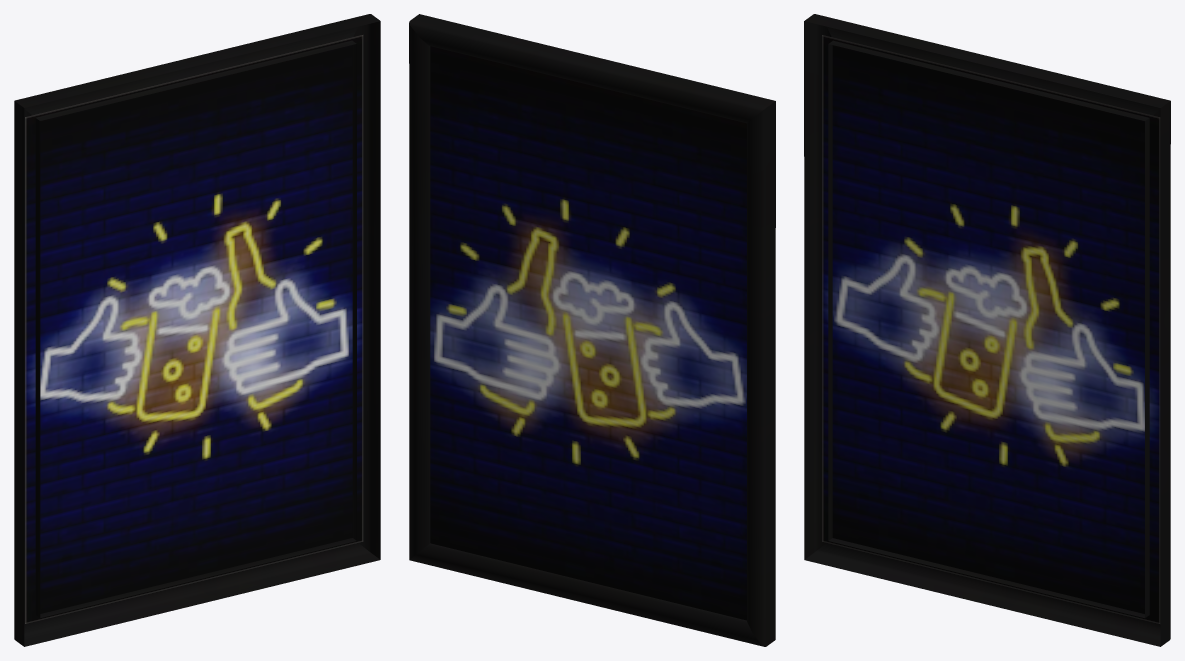
Rendered from Prop_Canvas_x8.fbx.
The picture shows the model from 3 angles, left to right: view 1: azimuth 30°, elevation 25°; view 2: azimuth 150°, elevation 25°; view 3: azimuth 330°, elevation 25°; orthographic projection.
Parts seen in each view (by area): view 1: Prop_Canvas_x8; view 2: Prop_Canvas_x8; view 3: Prop_Canvas_x8.
Boxes of the visible parts, x1=… form: Prop_Canvas_x8: x1=14, y1=14, x2=380, y2=646; Prop_Canvas_x8: x1=409, y1=14, x2=775, y2=646; Prop_Canvas_x8: x1=804, y1=14, x2=1170, y2=646.
Size of the model in its own units: 30.72 by 44.37 by 1.74.
